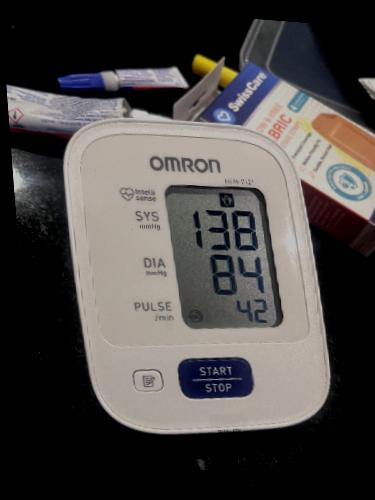bpm: (164, 172, 284, 341)
